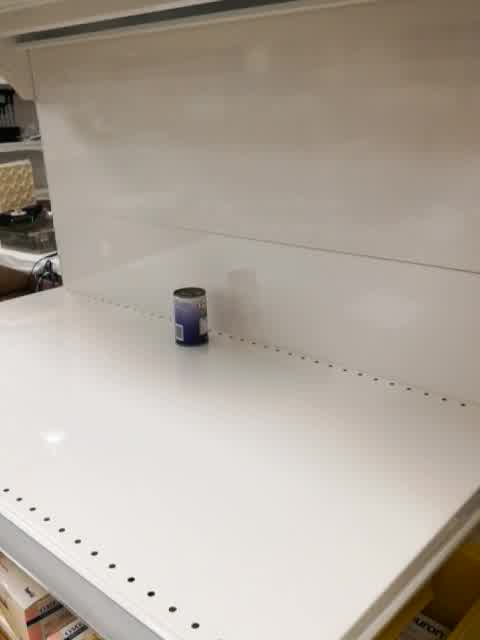sardine: (172, 286, 208, 349)
